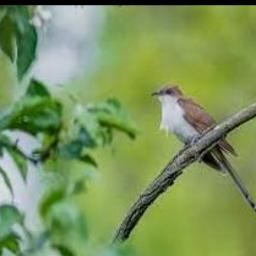Cuckoo: (151, 84, 256, 213)
